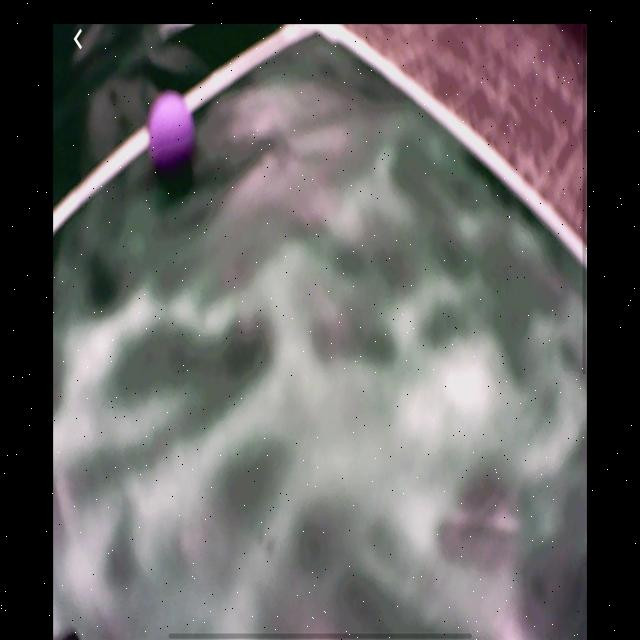ball: (147, 90, 196, 173)
